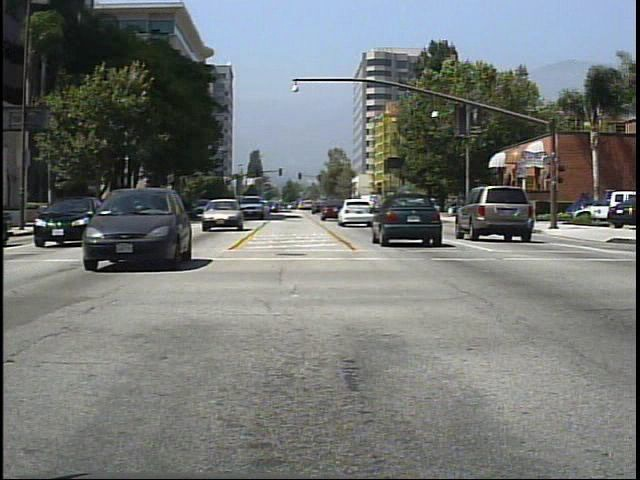person: (512, 195, 531, 231), (481, 190, 499, 225)
